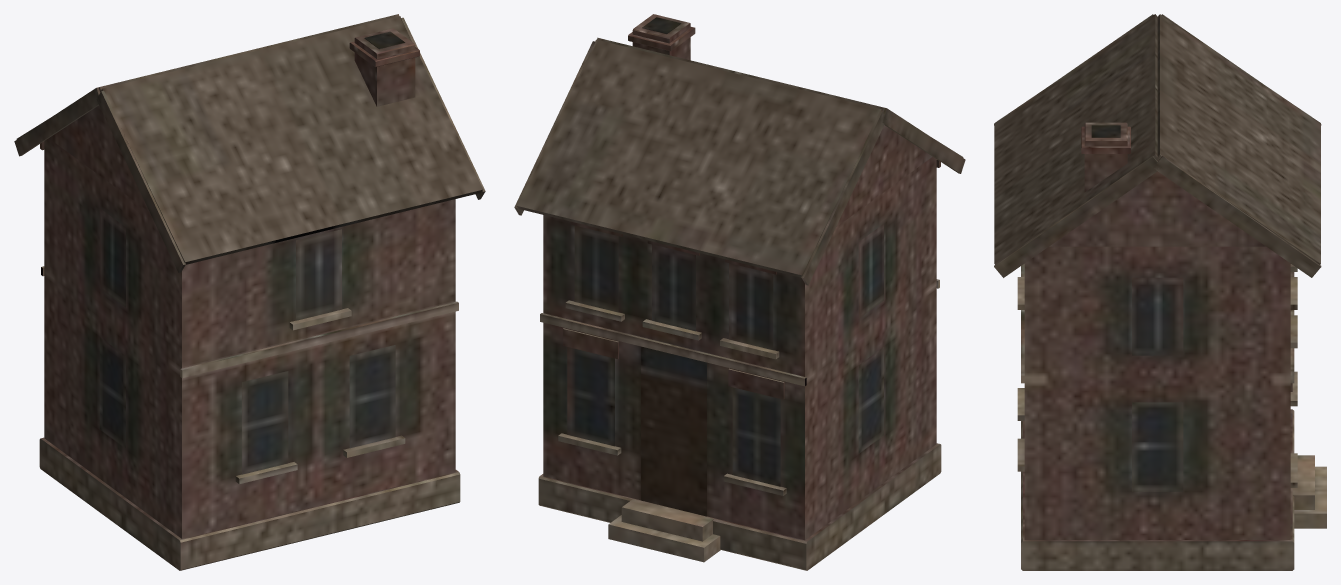
The model's file is b_bhouse_far.glb.
The picture shows the model from 3 angles, left to right: view 1: azimuth 30°, elevation 25°; view 2: azimuth 150°, elevation 25°; view 3: azimuth 270°, elevation 25°; orthographic projection. The views are drawn at different scales.
Parts seen in each view (by area): view 1: b_bhouse_far; view 2: b_bhouse_far; view 3: b_bhouse_far.
Boxes of the visible parts, x1=… form: b_bhouse_far: x1=14, y1=14, x2=485, y2=570; b_bhouse_far: x1=514, y1=14, x2=965, y2=570; b_bhouse_far: x1=994, y1=14, x2=1326, y2=570.
Bounding box in the file's own units: 3.94 × 5.45 × 3.87.
Materials: 1 (1 with a texture image).
